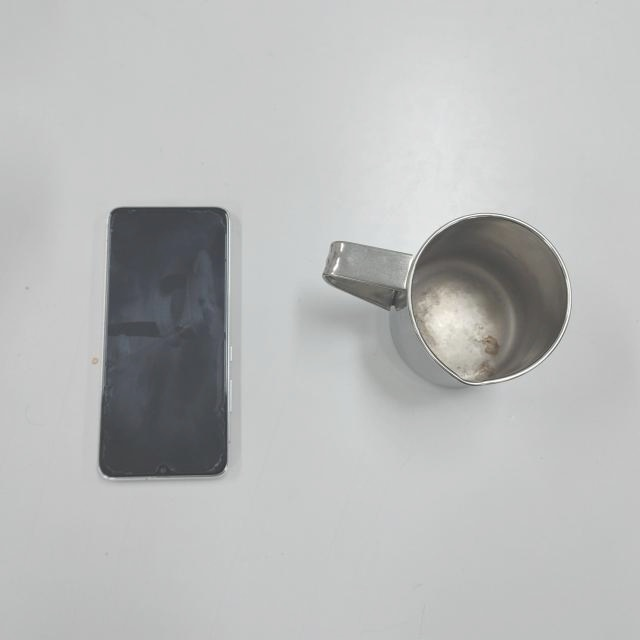cup: (321, 210, 572, 392)
phone: (98, 203, 232, 483)
